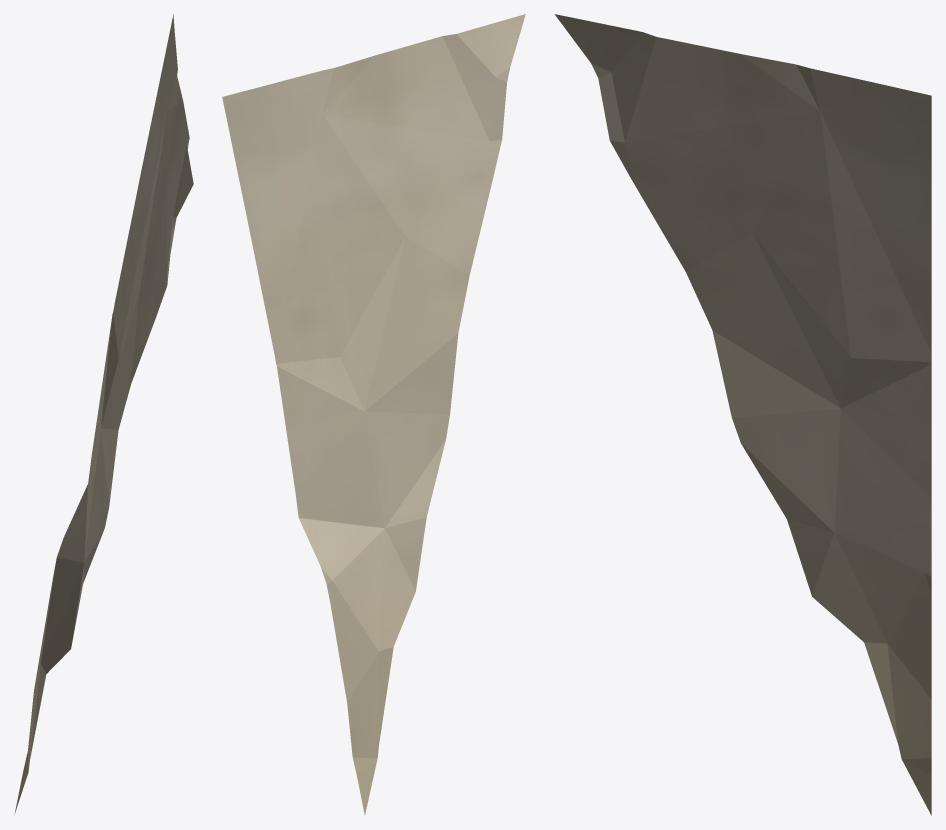
The picture shows the model from 3 angles, left to right: view 1: azimuth 30°, elevation 25°; view 2: azimuth 150°, elevation 25°; view 3: azimuth 270°, elevation 25°; orthographic projection. The views are drawn at different scales.
Bounding box in the file's own units: 0.2134 × 0.9774 × 0.4166.
1 material, 1 textured.
